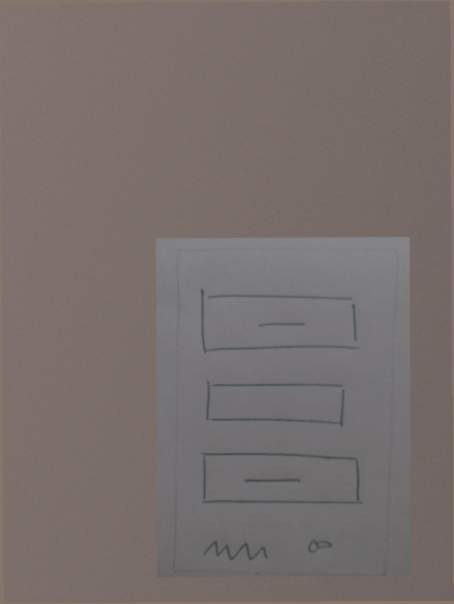button: (195, 285, 367, 357), (195, 446, 370, 511)
switch: (300, 535, 342, 556)
text: (194, 536, 280, 567)
text_input: (199, 377, 349, 432)
